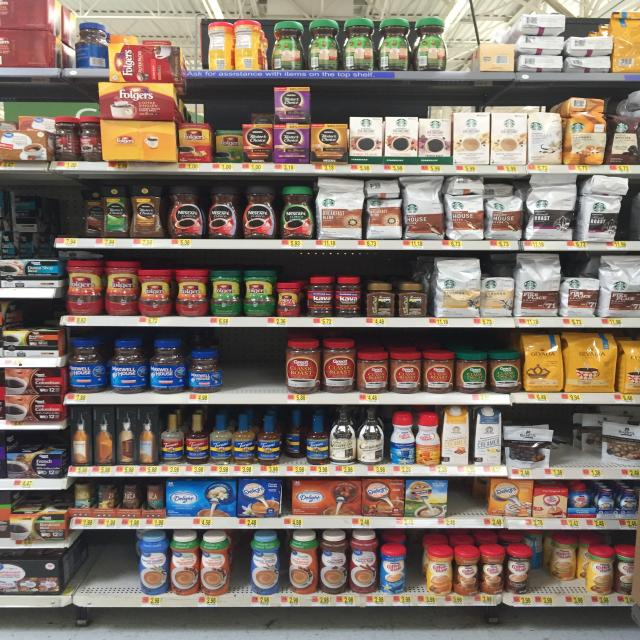unorganised: (571, 411, 640, 465), (105, 42, 185, 84), (206, 19, 265, 72), (534, 535, 586, 593), (281, 411, 307, 465), (562, 92, 610, 116), (212, 124, 241, 161), (83, 186, 102, 237), (251, 111, 272, 123)
